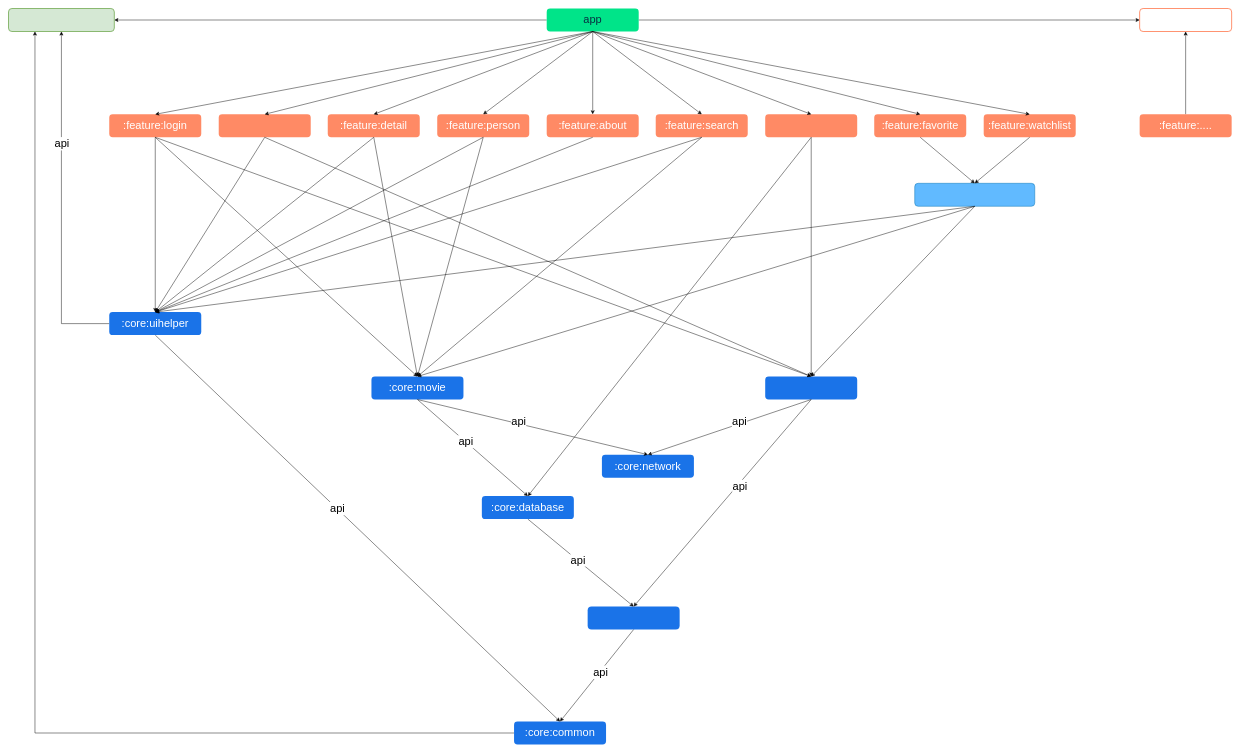
Image size: 1240x752. Some labels were removed from this diagram. The centre of each missing label's shape, as x and y in pixels:
":core:data" belongs at (633,617).
":core:designsystem" belongs at (61,20).
":core:favoritewatchlist" belongs at (974,194).
":core:user" belongs at (811,387).
":feature:home" belongs at (264,125).
":feature:more" belongs at (811,125).
":navigation" belongs at (1185,20).
